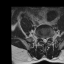CCS_normal: (44, 37, 45, 43)
LFS_stenosis: (47, 35, 49, 40)
LLS_normal: (45, 37, 47, 42)
RFS_stenosis: (40, 36, 42, 40)
RLS_normal: (42, 37, 44, 42)
